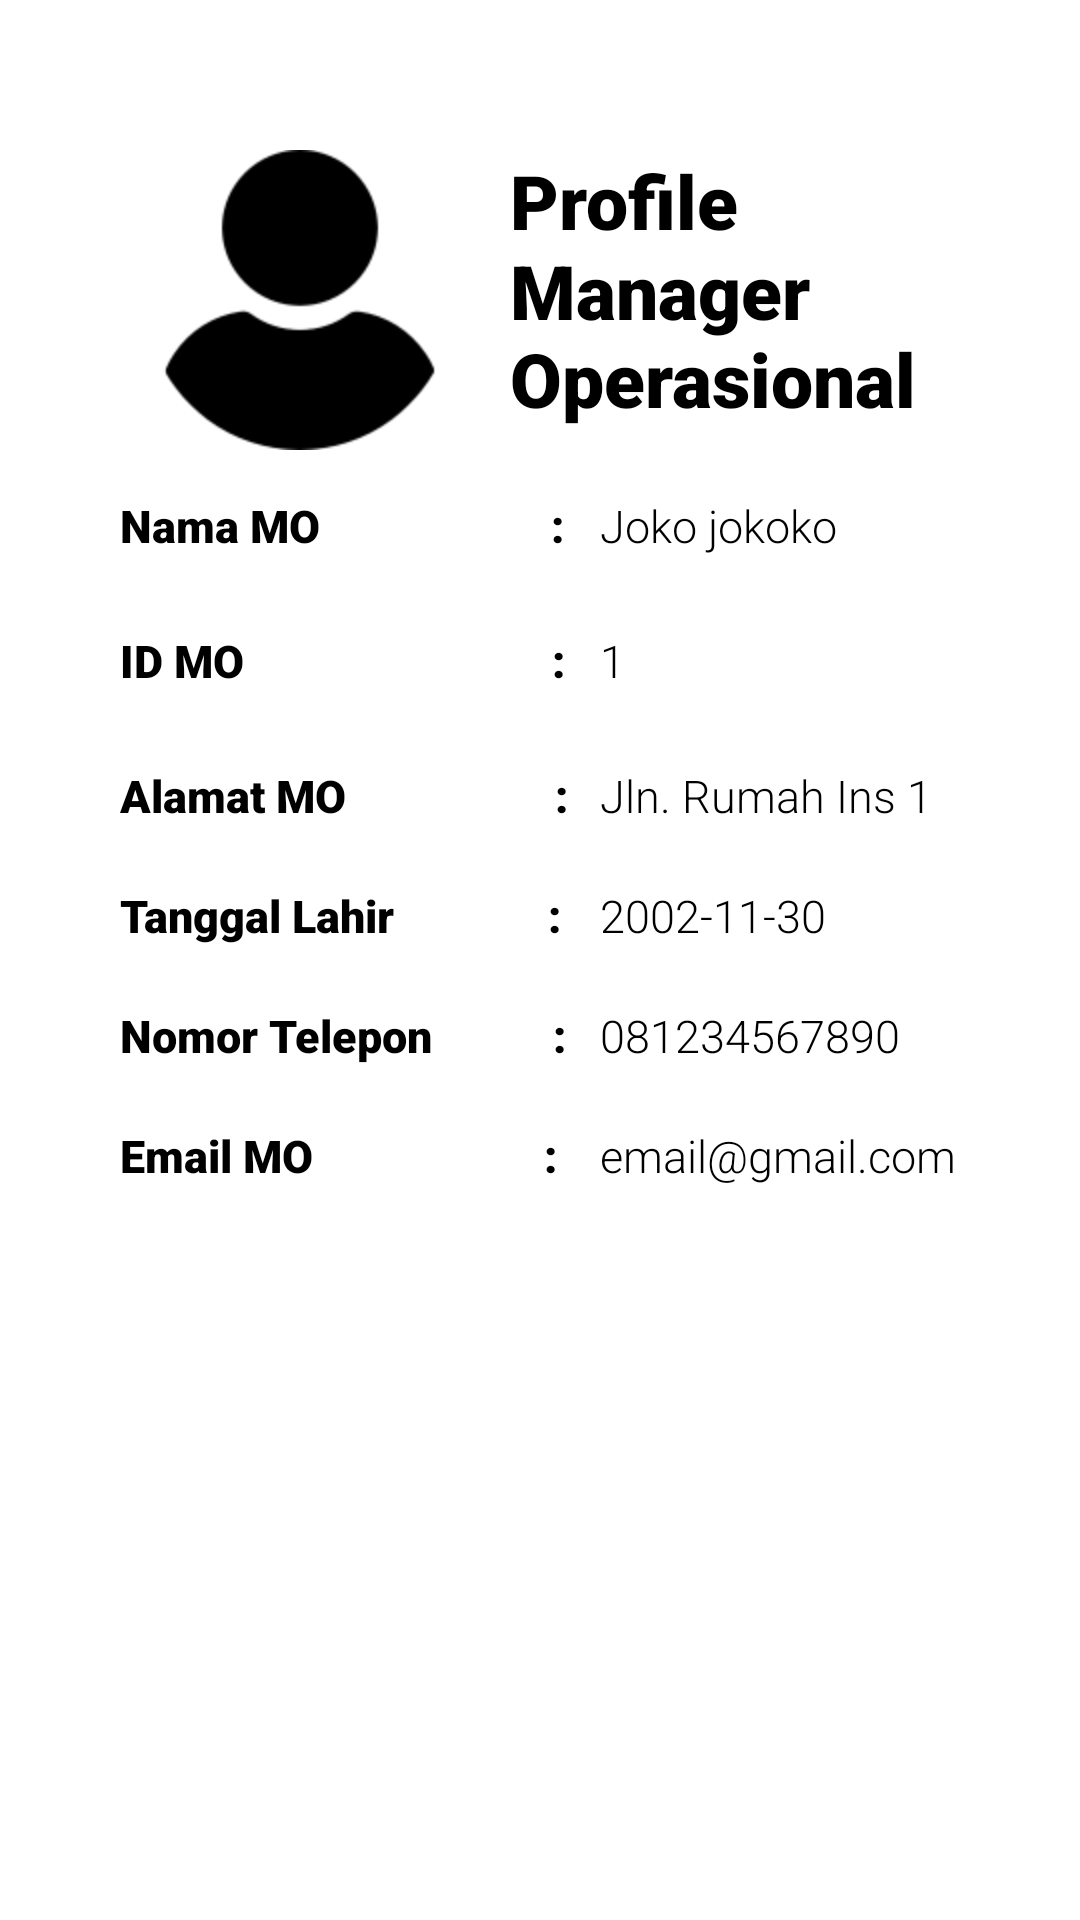

Screen size 1080px×1920px. Icon name, then its center in pixels as [x,y]:
user: [300,300]
